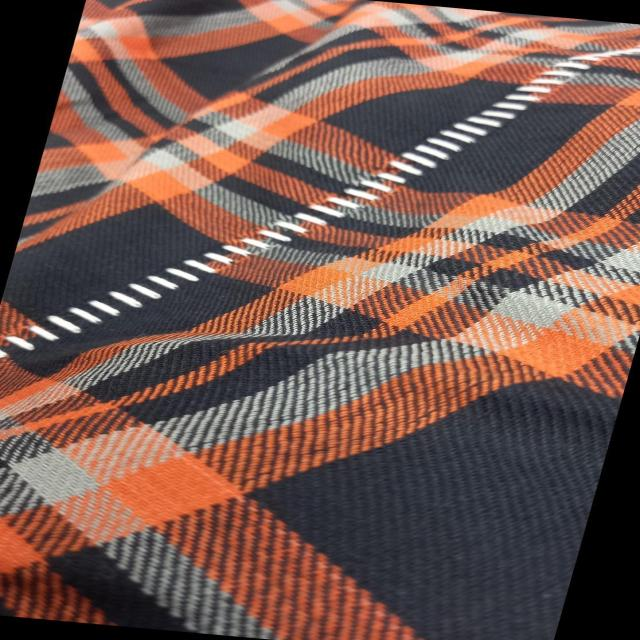gray stitch: (0, 23, 578, 417), (606, 22, 640, 60)
